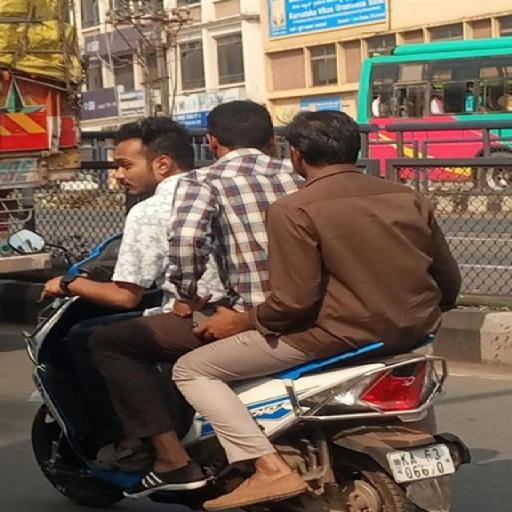tripple riding: (26, 94, 464, 364)
